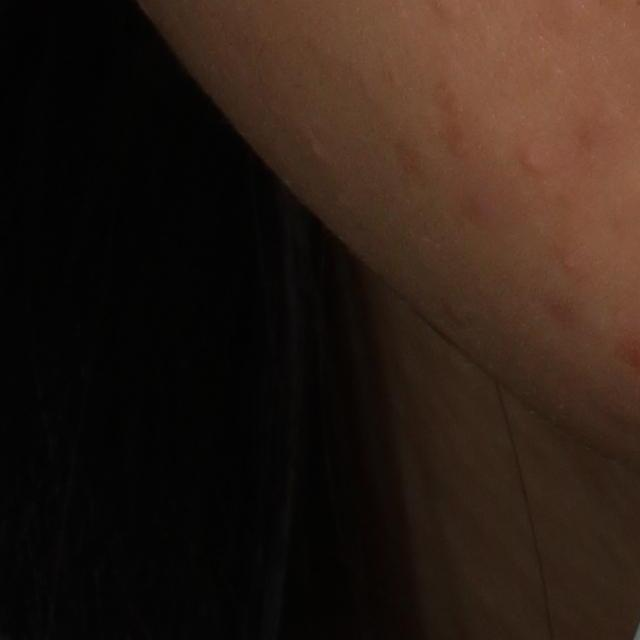papule: (521, 150, 543, 173)
